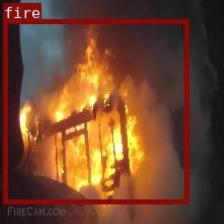fire: (2, 19, 188, 203)
